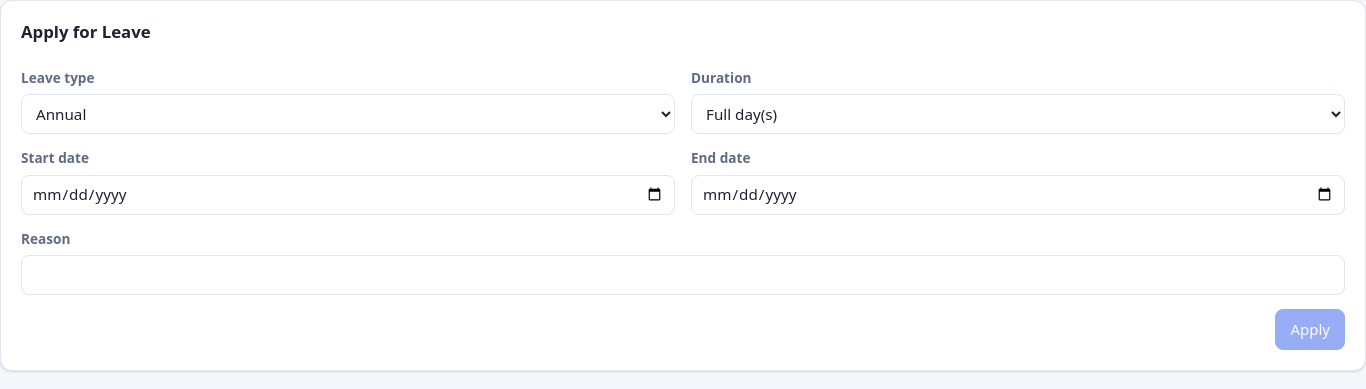
ApplyLeaveForm › submit stays disabled until both dates are valid
The image size is (1366, 389).
Expected: the button "Apply" is disabled, [1275,309,1345,350]
Type "2026-03-02" into the date field labelled "Start date" at (348, 195), box [21,175,675,215]
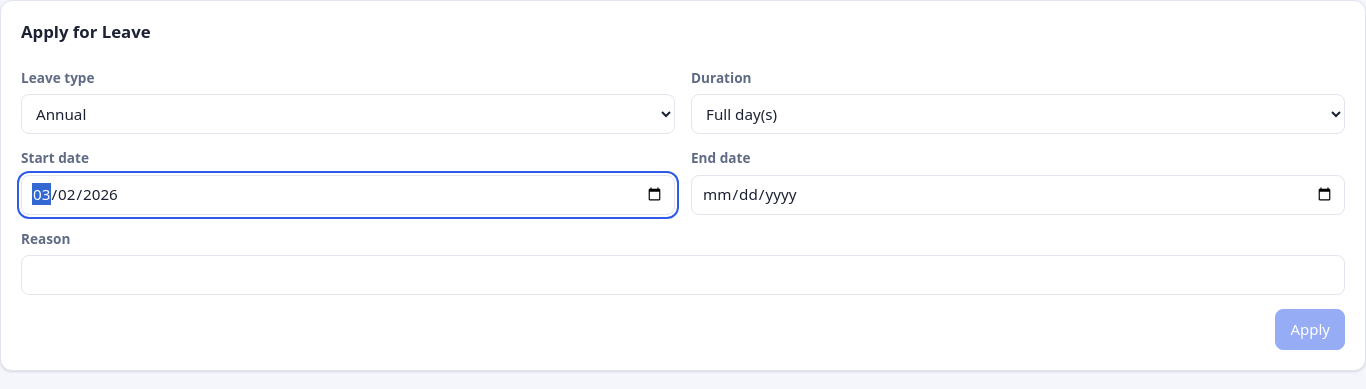
Expected: the button "Apply" is disabled, [1275,309,1345,350]
Type "2026-03-06" into the date field labelled "End date" at (1018, 195), box [691,175,1345,215]
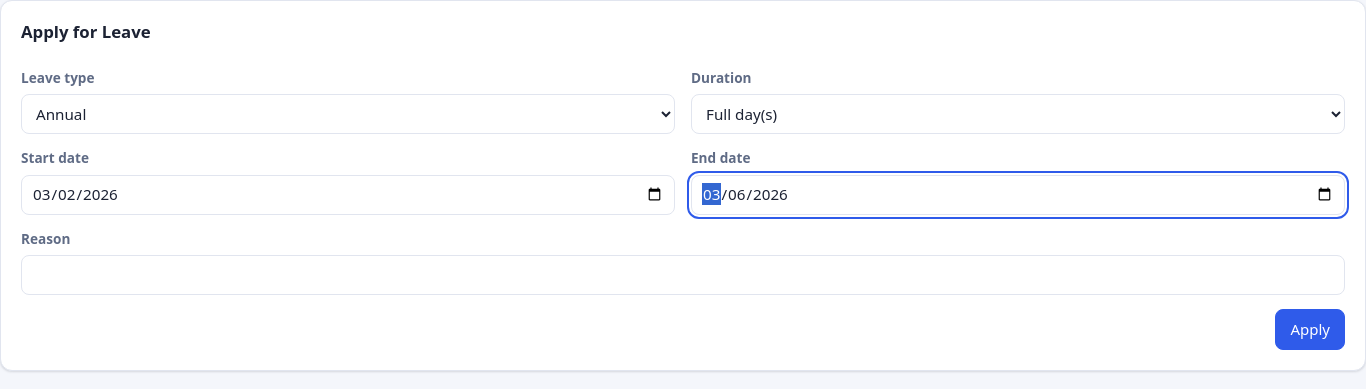
Result: the button "Apply" is enabled at [1275,309,1345,350]
